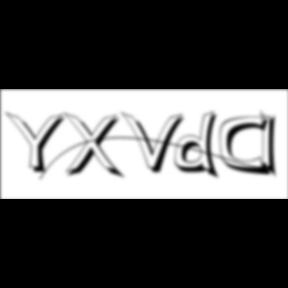C: (219, 115, 274, 178)
V: (122, 110, 188, 176)
X: (63, 112, 127, 182)
Y: (4, 110, 72, 176)
d: (175, 110, 225, 182)
l: (260, 108, 284, 182)
